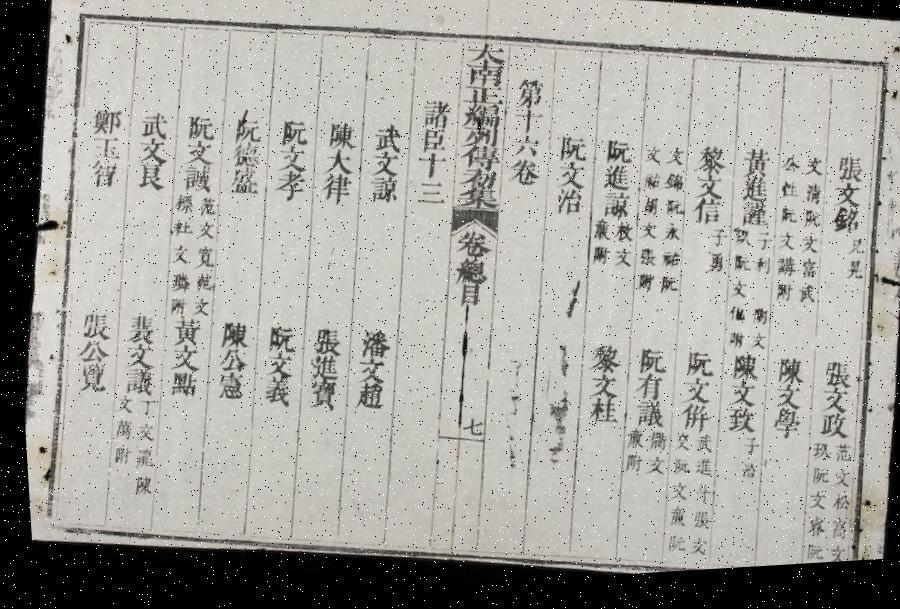c: (226, 106, 264, 148), (350, 327, 390, 364), (298, 378, 336, 416), (449, 231, 491, 265), (509, 79, 546, 117), (734, 150, 771, 188), (268, 170, 306, 207), (455, 147, 500, 178), (254, 374, 290, 412), (118, 310, 156, 346), (581, 346, 619, 382), (688, 149, 726, 185), (314, 173, 352, 209), (68, 359, 106, 395), (71, 306, 110, 341), (462, 43, 507, 73), (456, 107, 500, 137), (452, 188, 497, 217), (762, 413, 798, 449), (304, 325, 340, 361), (416, 99, 452, 135), (368, 122, 404, 158), (578, 400, 616, 434), (624, 403, 662, 437), (85, 105, 124, 138), (462, 65, 506, 94), (258, 322, 294, 357), (362, 176, 399, 210), (448, 260, 487, 292), (223, 166, 259, 200), (813, 364, 849, 398), (552, 137, 588, 171), (176, 164, 213, 197), (503, 161, 540, 194), (114, 366, 152, 398), (459, 88, 504, 115), (83, 157, 118, 191), (164, 315, 199, 349), (550, 164, 585, 198), (670, 408, 706, 441), (346, 383, 382, 416), (411, 153, 447, 186), (594, 195, 630, 228), (85, 132, 122, 164), (809, 418, 846, 450), (454, 170, 497, 197), (676, 352, 710, 386), (208, 370, 242, 404), (212, 318, 246, 352), (322, 120, 356, 154), (686, 202, 721, 235), (629, 350, 664, 383), (116, 340, 152, 372), (134, 108, 170, 140), (580, 376, 616, 408), (364, 152, 400, 184), (318, 148, 354, 180), (409, 182, 446, 213), (548, 191, 582, 224), (830, 160, 864, 193), (181, 112, 216, 144), (132, 136, 167, 168), (349, 358, 384, 390), (456, 129, 499, 155), (302, 354, 338, 385), (732, 206, 768, 237), (70, 336, 107, 366), (131, 161, 165, 193), (275, 118, 309, 150), (272, 146, 306, 178), (674, 382, 708, 414), (722, 358, 756, 390), (596, 168, 630, 200), (226, 141, 261, 172), (179, 138, 214, 169), (162, 344, 197, 375), (812, 393, 846, 424), (718, 412, 752, 443), (626, 377, 660, 408), (768, 362, 800, 394), (826, 213, 859, 244), (257, 352, 291, 382), (508, 112, 544, 140), (162, 370, 194, 401), (507, 136, 540, 166), (719, 386, 752, 416), (599, 142, 632, 172), (210, 347, 244, 376), (766, 390, 798, 420), (735, 182, 768, 211), (689, 180, 723, 208), (828, 189, 860, 218), (414, 131, 447, 159), (451, 287, 481, 314), (768, 261, 795, 288), (188, 244, 214, 272), (796, 521, 822, 548), (125, 444, 150, 472), (818, 523, 844, 549), (104, 416, 130, 442), (123, 471, 149, 497), (163, 270, 189, 296), (698, 256, 723, 282), (168, 192, 193, 217), (684, 486, 708, 512), (838, 266, 862, 292), (658, 509, 682, 535), (454, 418, 479, 442), (165, 242, 188, 268), (796, 548, 820, 572), (682, 514, 706, 538), (821, 498, 845, 522), (824, 449, 848, 473), (685, 438, 709, 462), (638, 460, 662, 484), (660, 485, 684, 509), (639, 435, 663, 459), (608, 226, 632, 250), (618, 432, 640, 458), (798, 188, 820, 214), (128, 420, 152, 443), (656, 538, 680, 561), (823, 474, 846, 498), (799, 496, 822, 520), (607, 252, 630, 276), (802, 447, 826, 470), (768, 288, 791, 312), (726, 233, 750, 256), (793, 264, 815, 289), (586, 248, 608, 273), (108, 393, 131, 416), (656, 227, 679, 250), (802, 472, 825, 495), (775, 186, 798, 209), (796, 216, 820, 238), (679, 540, 701, 564), (616, 456, 638, 480), (800, 162, 822, 186), (791, 290, 813, 314), (188, 270, 210, 294), (772, 238, 794, 262), (588, 224, 610, 248), (104, 443, 126, 466), (733, 441, 755, 464), (702, 233, 724, 256), (666, 436, 688, 459), (686, 462, 708, 485), (724, 285, 746, 308), (653, 280, 676, 302), (794, 241, 816, 264), (633, 252, 655, 275), (660, 177, 682, 200), (166, 218, 190, 239), (636, 177, 660, 198), (840, 244, 862, 266), (664, 461, 686, 483), (186, 296, 208, 318), (774, 212, 796, 234), (720, 336, 742, 358), (726, 260, 748, 282), (662, 152, 684, 174), (659, 203, 681, 225), (631, 277, 652, 300), (777, 161, 798, 184), (193, 196, 214, 219), (655, 255, 678, 276), (750, 236, 770, 260), (818, 551, 840, 572), (731, 466, 752, 488), (162, 296, 184, 317), (192, 220, 214, 241), (634, 226, 656, 247), (640, 150, 661, 172), (722, 310, 744, 331), (131, 397, 152, 419), (637, 201, 657, 224), (743, 338, 763, 359), (746, 312, 764, 334), (748, 262, 767, 282)
